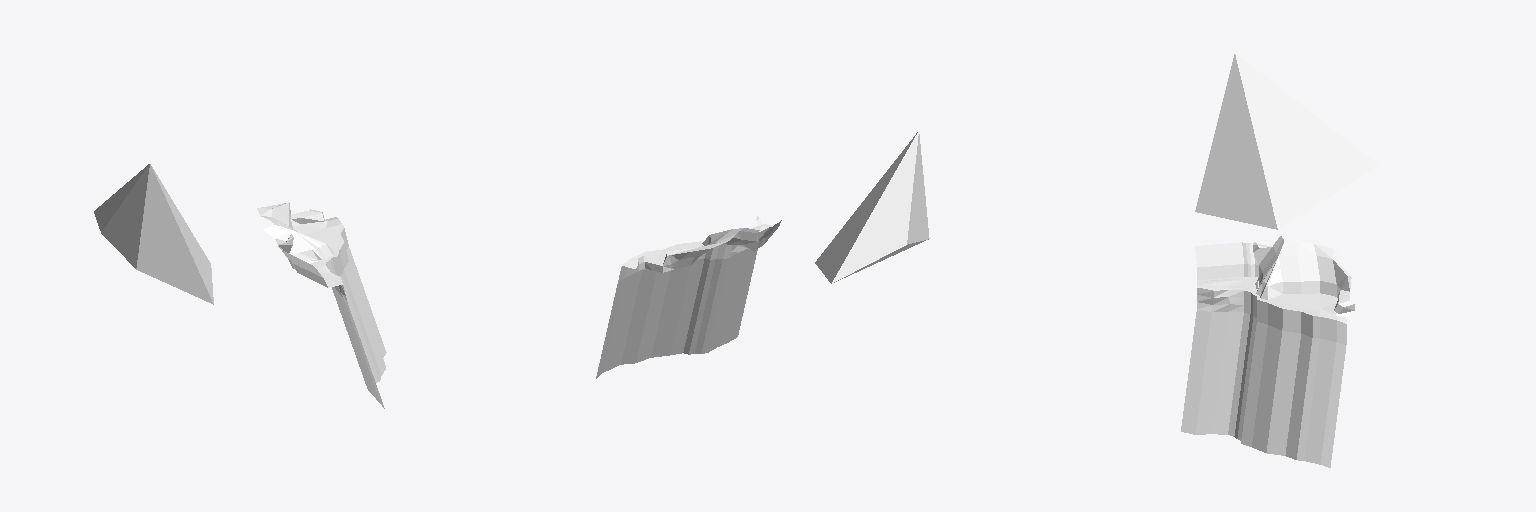
The model's file is forestMountain.obj.
The picture shows the model from 3 angles: view 1: azimuth 30°, elevation 25°; view 2: azimuth 150°, elevation 25°; view 3: azimuth 270°, elevation 25°; orthographic projection.
Parts seen in each view (by area): view 1: ForestLand.001, ForestLand; view 2: ForestLand, ForestLand.001; view 3: ForestLand, ForestLand.001.
Boxes of the visible parts, x1=… form: ForestLand.001: x1=94, y1=164, x2=213, y2=304; ForestLand: x1=257, y1=202, x2=386, y2=408; ForestLand: x1=596, y1=215, x2=781, y2=378; ForestLand.001: x1=815, y1=131, x2=929, y2=283; ForestLand: x1=1181, y1=236, x2=1354, y2=467; ForestLand.001: x1=1195, y1=53, x2=1378, y2=229.
Size of the model in its own units: 415 by 380 by 243.